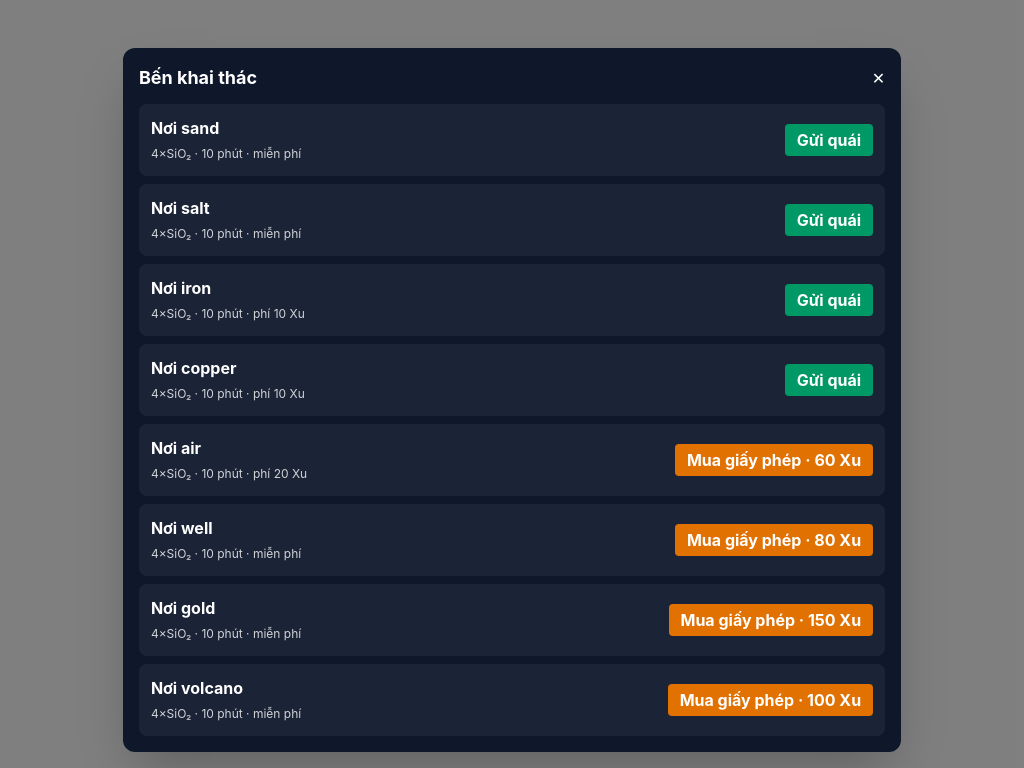
it: shows a refusal in its own words
The width and height of the screenshot is (1024, 768).
Click the button "Mua giấy phép · 60 Xu": (774,460) [675,444,873,476]
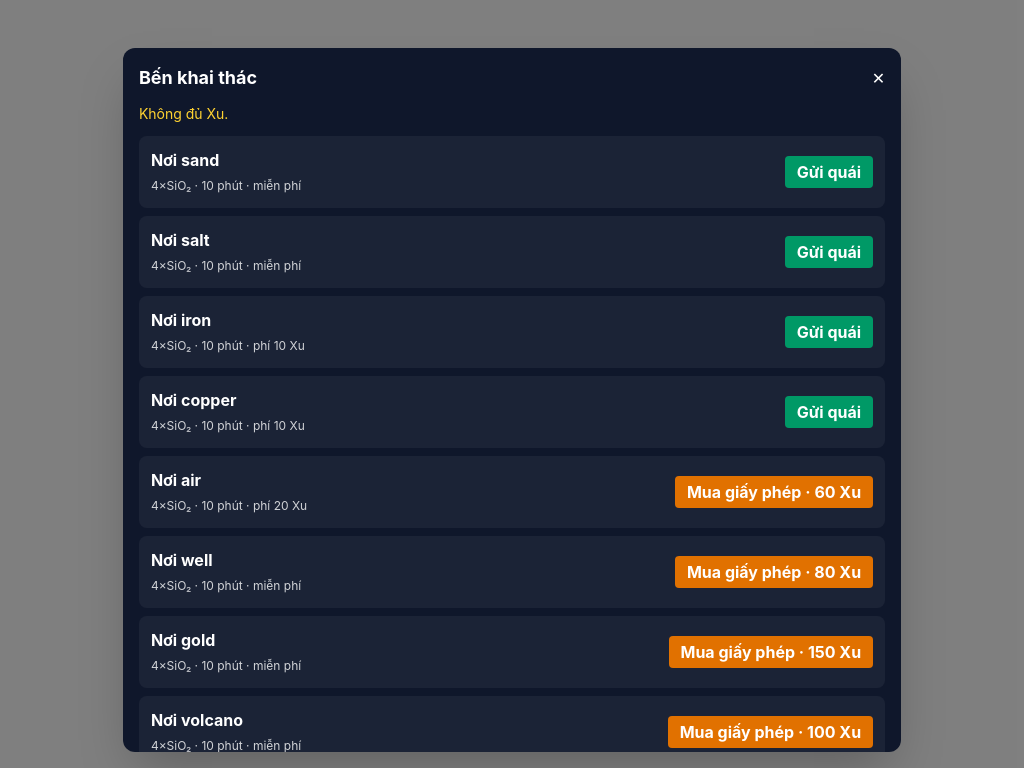
Check: the message reads "Không đủ Xu.", box [139,105,228,122]
